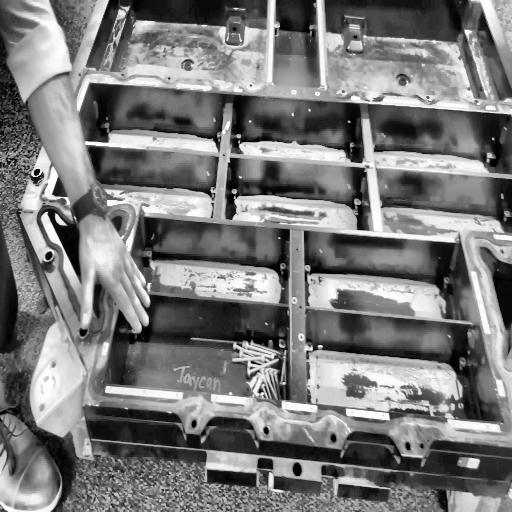b_casing: (18, 0, 512, 458)
